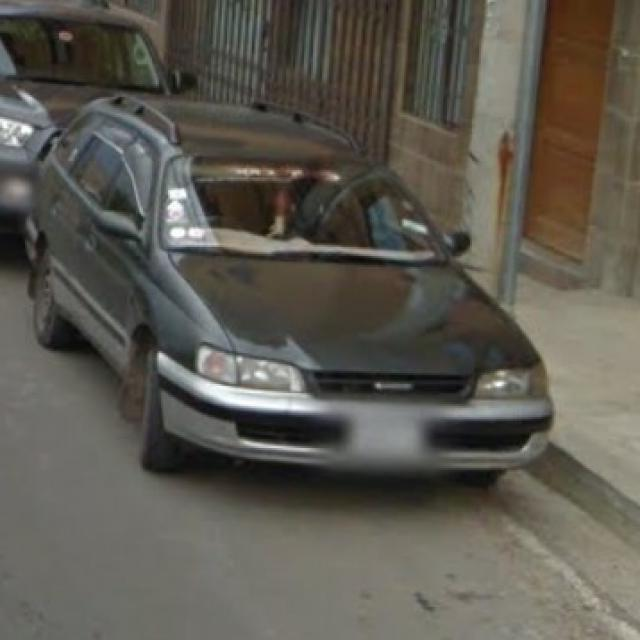car: (22, 91, 556, 486), (0, 11, 190, 219)
